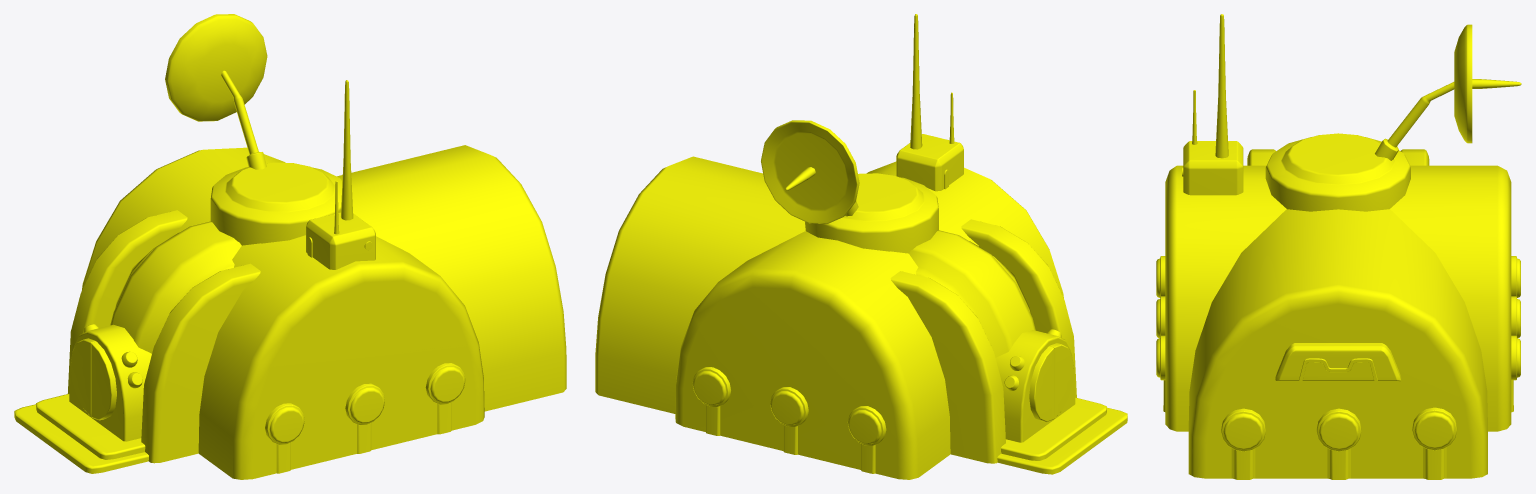
File: home_colonists.glb
3 renders of one model, left to right at view 1: azimuth 30°, elevation 25°; view 2: azimuth 150°, elevation 25°; view 3: azimuth 270°, elevation 25°, orthographic. The views are drawn at different scales.
Parts seen in each view (by area): view 1: Home_colonists; view 2: Home_colonists; view 3: Home_colonists.
Part boxes in pixels (x1=…): Home_colonists: x1=14, y1=14, x2=566, y2=479; Home_colonists: x1=595, y1=14, x2=1127, y2=479; Home_colonists: x1=1156, y1=14, x2=1521, y2=479.
Bounding box in the file's own units: 14.59 × 10.56 × 9.72.
Materials: 1 (1 with a texture image).
